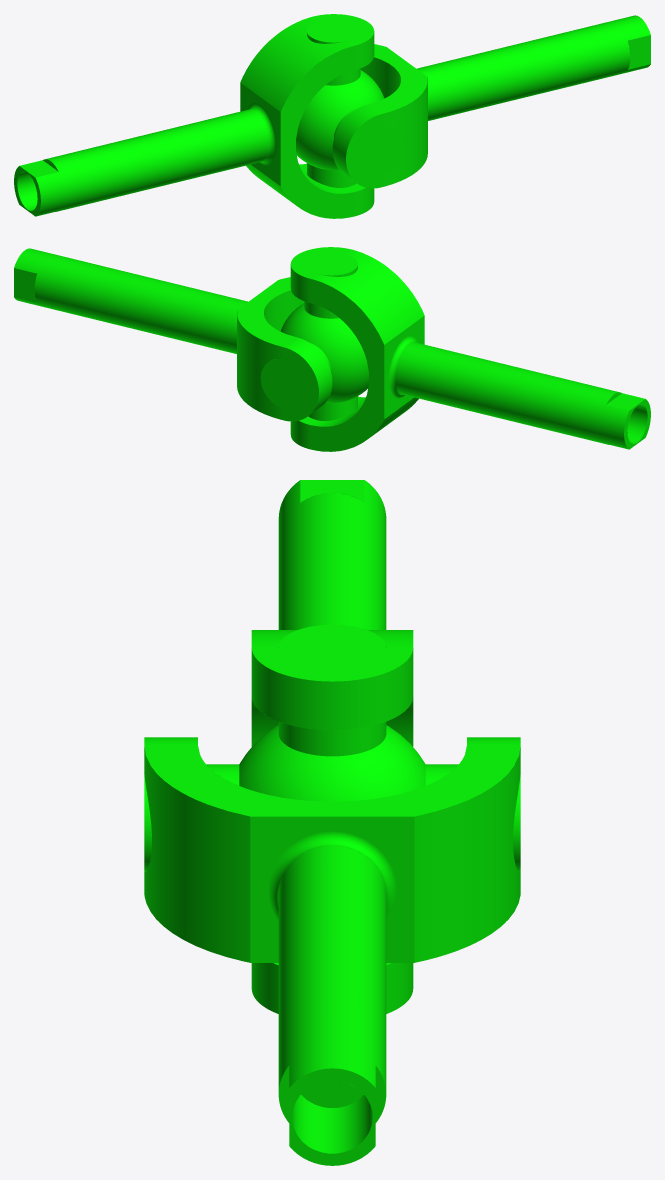
File: wanxiangjie.FBX
3 views of the same model, one above another, from view 1: azimuth 30°, elevation 25°; view 2: azimuth 150°, elevation 25°; view 3: azimuth 270°, elevation 25° (orthographic). The views are drawn at different scales.
Visible parts, largest first — view 1: TRM_SRF (×27); view 2: TRM_SRF (×27); view 3: TRM_SRF (×22).
Boxes of the visible parts, box(x1,y1,x2,y2) form: TRM_SRF (×27): box(14, 14, 650, 218); TRM_SRF (×27): box(14, 247, 650, 451); TRM_SRF (×22): box(144, 480, 520, 1165).
Size of the model in its own units: 31.06 by 8.27 by 8.27.
